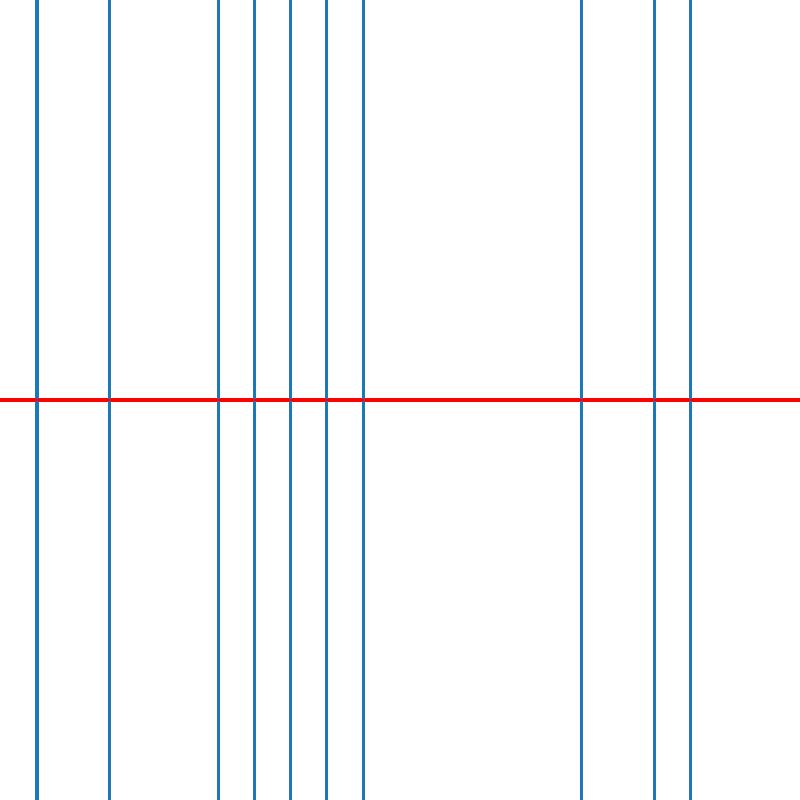root: (650, 396, 658, 404), (250, 396, 258, 404), (32, 396, 40, 404), (687, 396, 694, 404), (323, 396, 330, 404), (105, 396, 112, 404), (360, 396, 367, 404), (578, 396, 585, 404), (287, 396, 294, 404), (214, 396, 221, 404)
